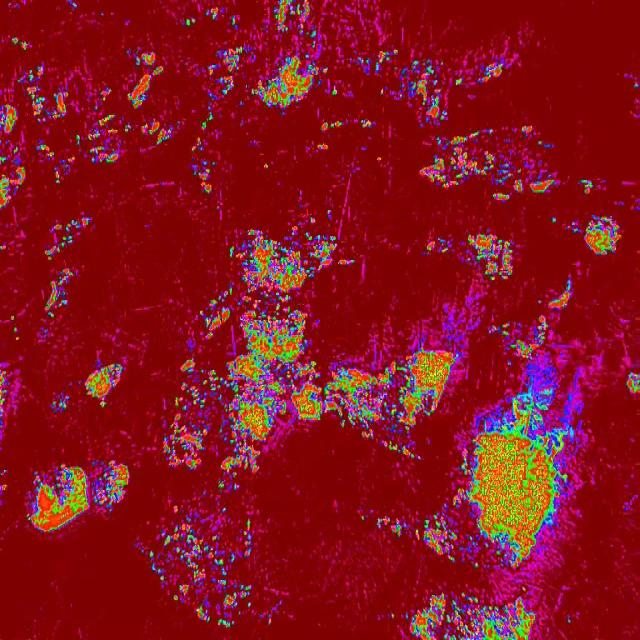fire: (162, 215, 356, 489), (458, 365, 580, 569), (138, 500, 254, 628), (356, 339, 460, 457), (418, 124, 562, 202), (356, 45, 447, 129), (28, 457, 128, 533), (403, 595, 535, 640), (86, 114, 178, 165), (250, 53, 326, 114), (188, 98, 220, 194), (20, 67, 70, 126), (486, 316, 548, 362), (200, 43, 250, 98), (272, 0, 324, 50), (421, 493, 458, 562), (466, 232, 516, 282), (126, 48, 162, 108), (82, 358, 125, 408), (44, 216, 91, 258), (0, 146, 28, 210), (582, 212, 620, 258), (46, 267, 75, 323), (0, 362, 13, 452), (542, 280, 573, 310), (375, 516, 408, 538), (424, 234, 454, 258), (54, 155, 78, 183), (0, 102, 19, 137), (480, 60, 506, 84), (258, 599, 280, 625), (52, 388, 68, 417), (624, 369, 640, 395), (35, 139, 54, 160), (10, 36, 32, 52), (319, 118, 344, 132), (578, 177, 596, 195), (10, 315, 21, 341), (566, 218, 580, 238), (204, 8, 221, 22), (0, 468, 9, 493), (100, 85, 112, 101), (230, 12, 240, 29), (182, 17, 196, 28), (317, 142, 332, 152), (454, 75, 464, 89), (66, 0, 79, 10), (262, 159, 270, 173), (356, 512, 367, 522), (74, 134, 82, 147), (564, 618, 574, 628), (630, 82, 639, 93), (414, 528, 421, 542), (550, 216, 558, 225), (331, 88, 338, 96), (389, 614, 396, 620), (92, 105, 99, 111)
